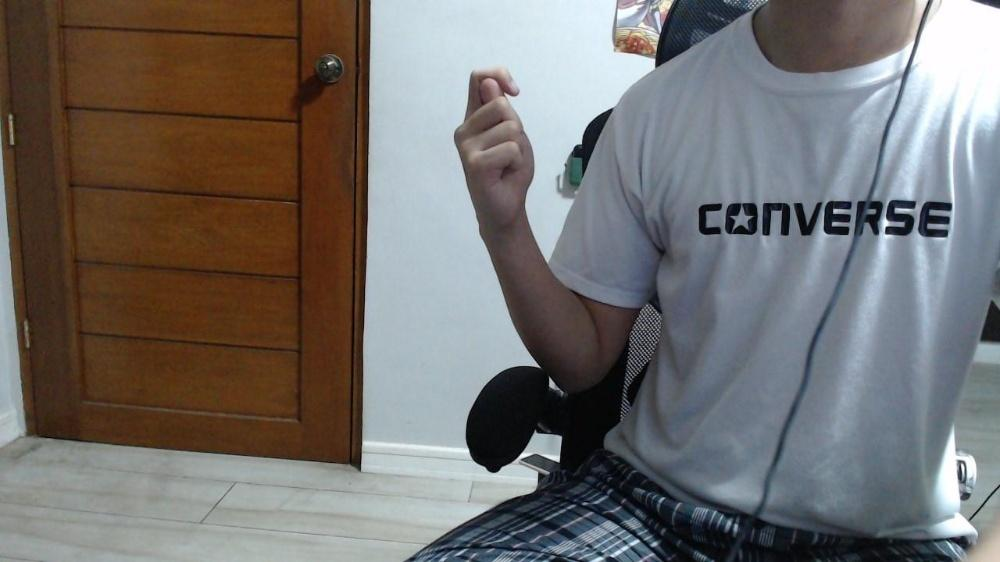t: (452, 63, 534, 219)
